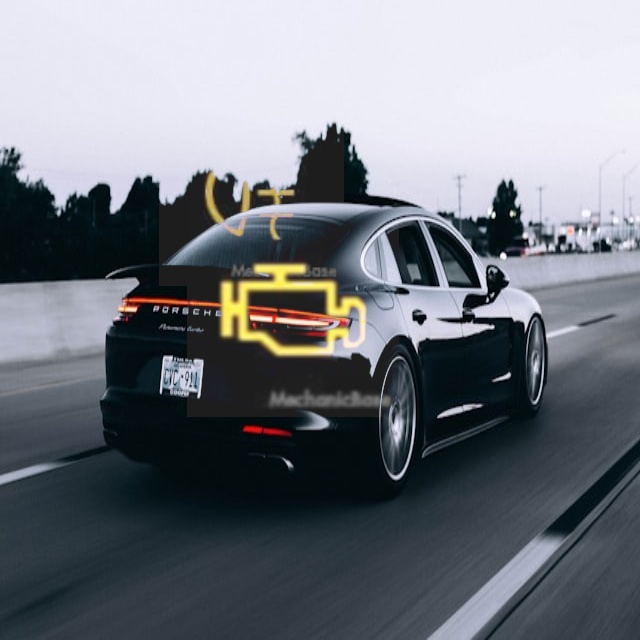symbol: (187, 205, 399, 417), (159, 101, 344, 286)
